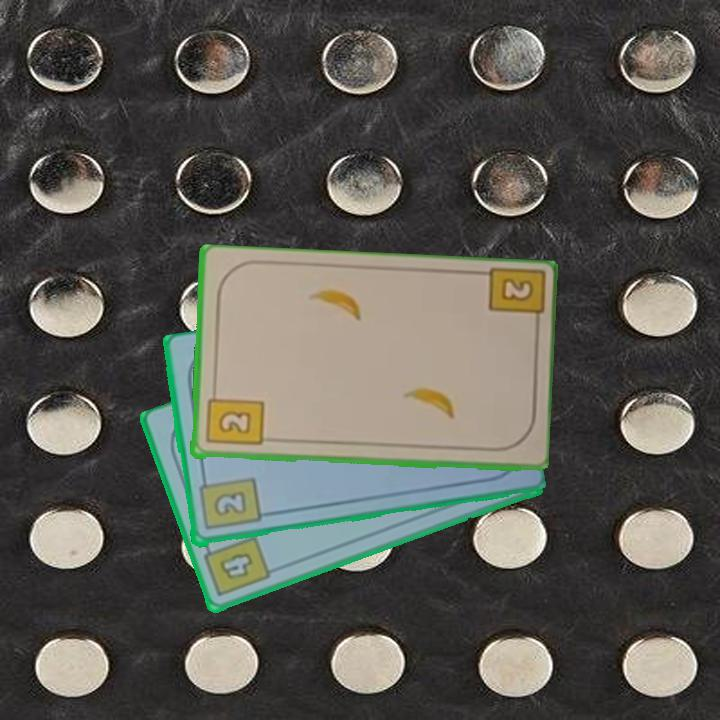2b: (195, 472, 262, 534), (483, 267, 544, 334), (202, 386, 265, 449)
4b: (200, 533, 274, 600)
